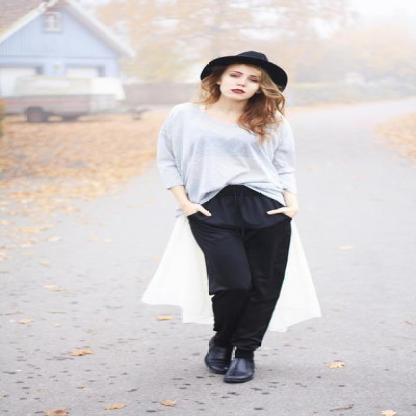hat: (201, 51, 286, 91)
pants: (187, 184, 291, 353)
shirt: (148, 102, 300, 202)
shoe: (205, 346, 254, 383)
